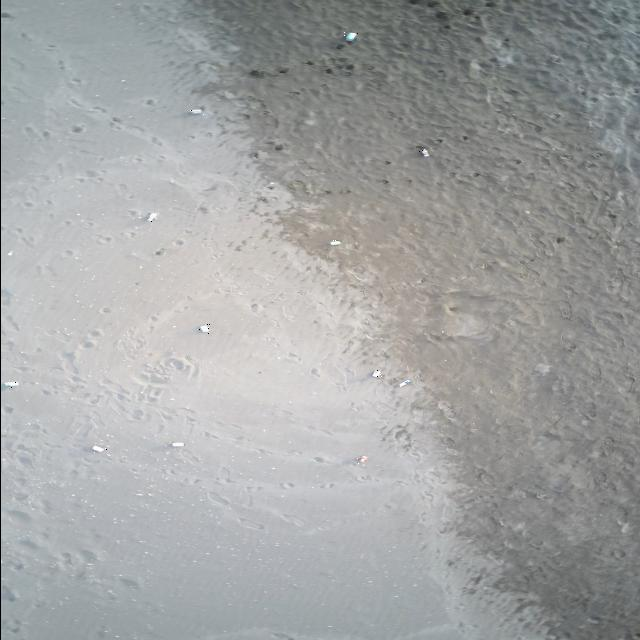Garbage: (343, 32, 356, 42), (417, 145, 428, 156), (91, 444, 105, 452), (355, 455, 367, 464), (4, 380, 19, 387), (399, 379, 411, 387), (188, 108, 203, 114), (147, 212, 158, 220), (200, 323, 209, 332), (169, 442, 183, 447), (372, 368, 380, 376), (267, 180, 275, 187), (331, 240, 340, 244), (7, 249, 12, 255)
